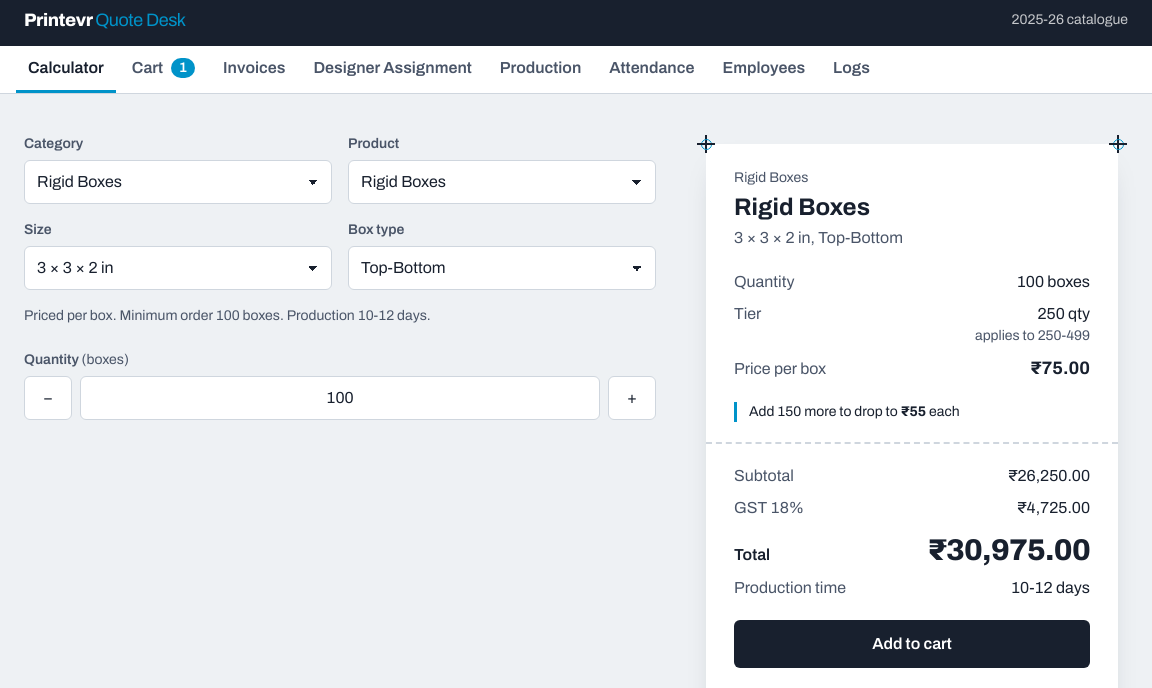
Test: cart › U2: changing a quantity re-quotes once after typing stops
The image size is (1152, 688).
Click the button "Cart 1" at (164, 70), box 120,46 -> 207,93
Wait 50 ms
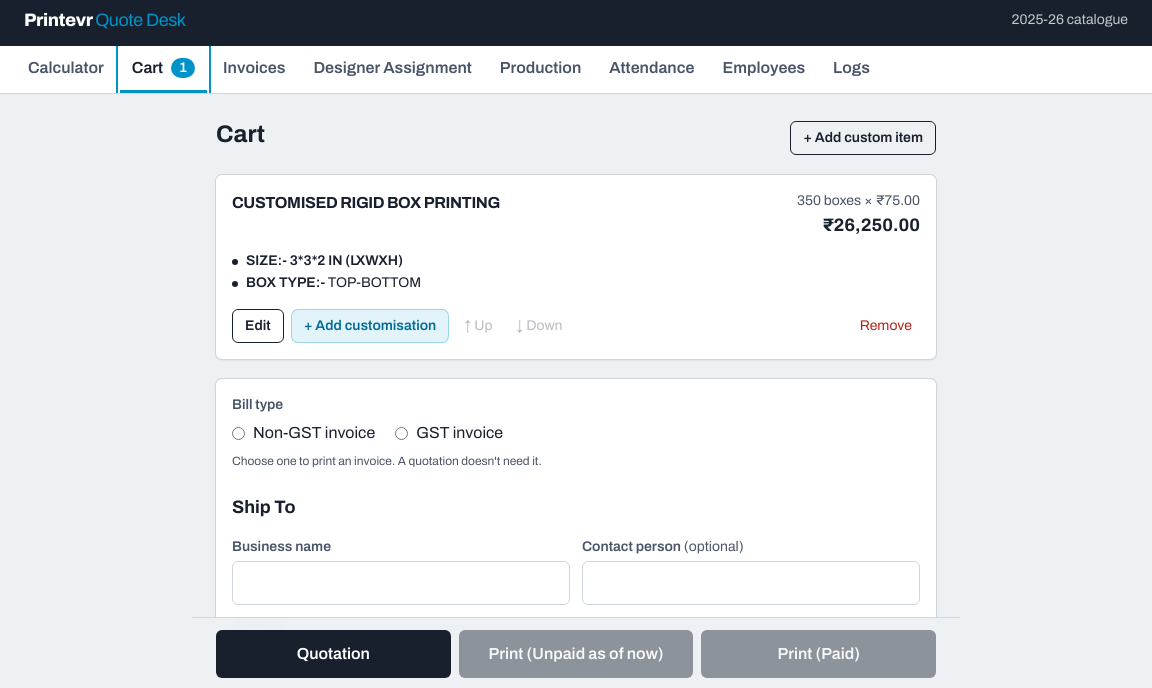
Click the button "Edit" at (258, 326), box 232,309 -> 284,343
(page scrolled)
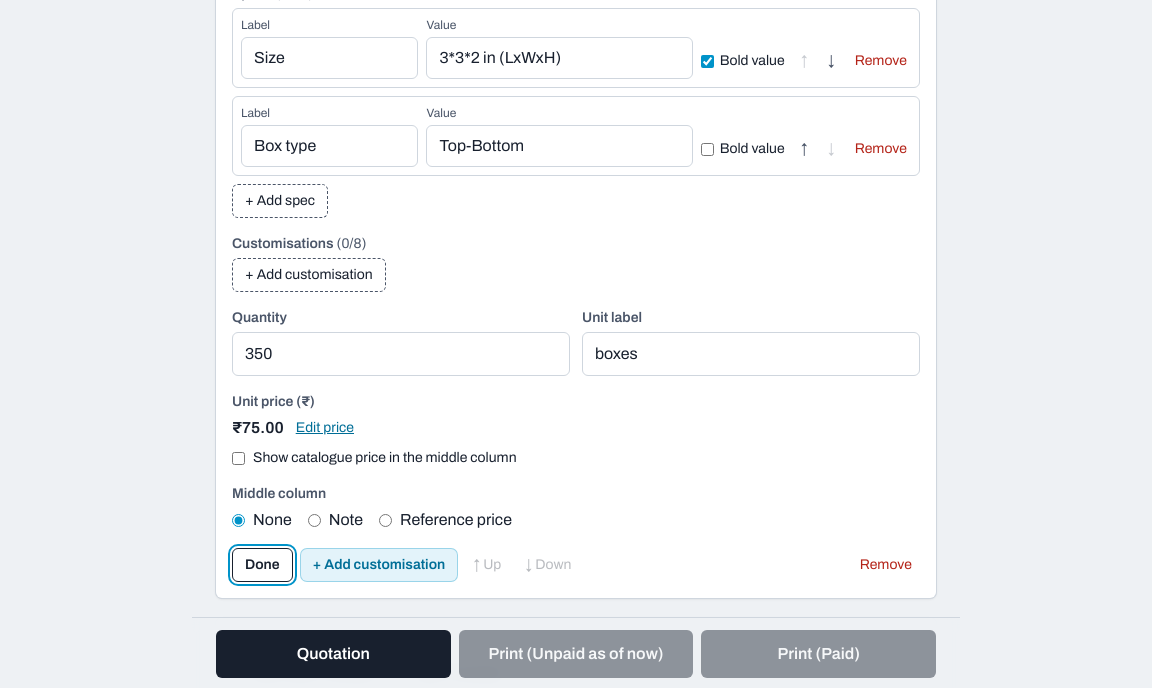
Replace the text in the field labelled "Quantity" with "500" at (401, 354), box 232,332 -> 570,376
Wait 300 ms
(page scrolled)
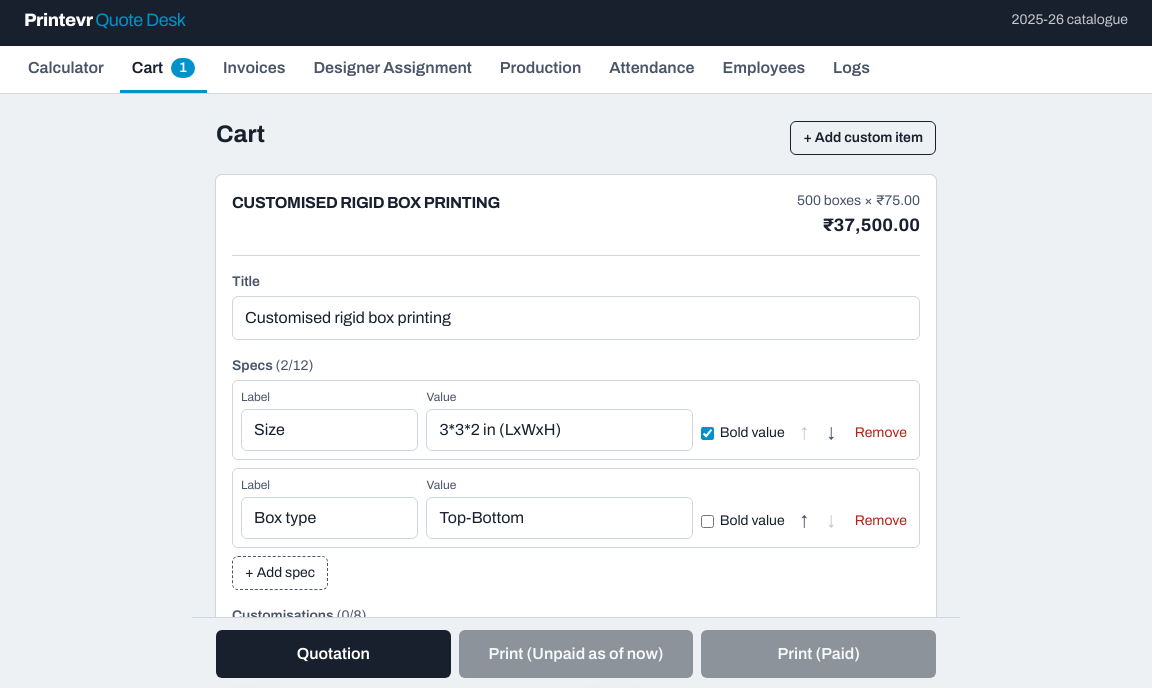
Expected: the text with test id "line-subtotal" reads "₹37,500.00", 822,215 -> 920,235
